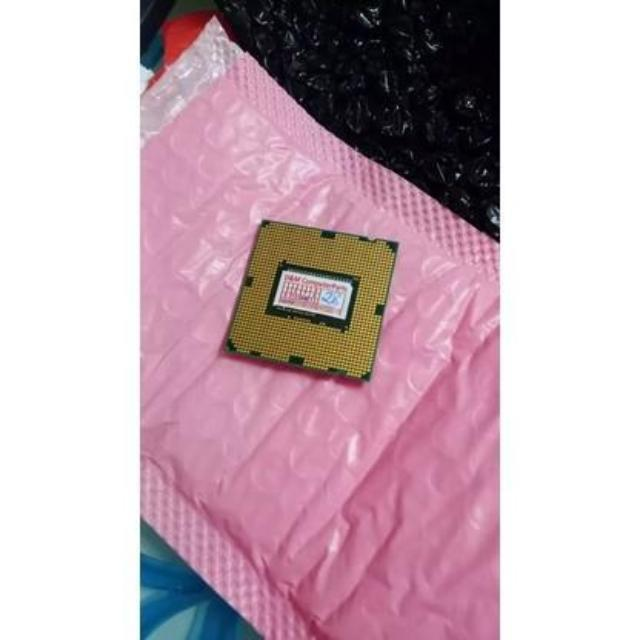CPU: (224, 218, 398, 386)
